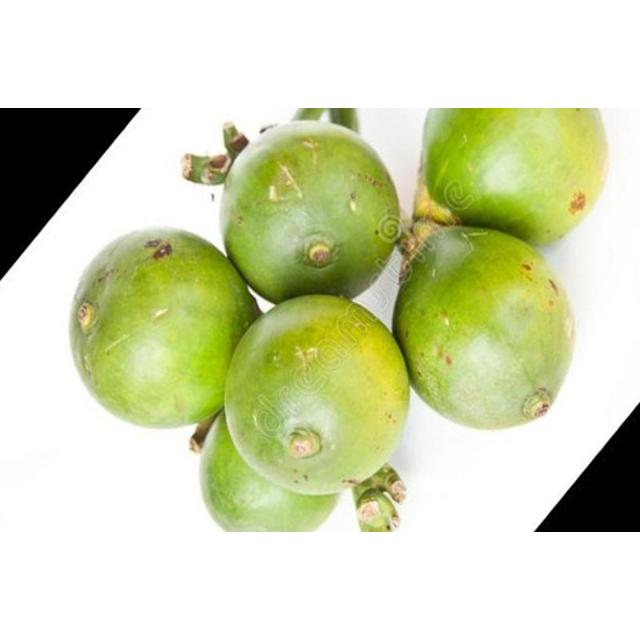good: (201, 294, 411, 532), (67, 227, 262, 431), (391, 226, 578, 433), (222, 122, 405, 306), (418, 108, 610, 248)
